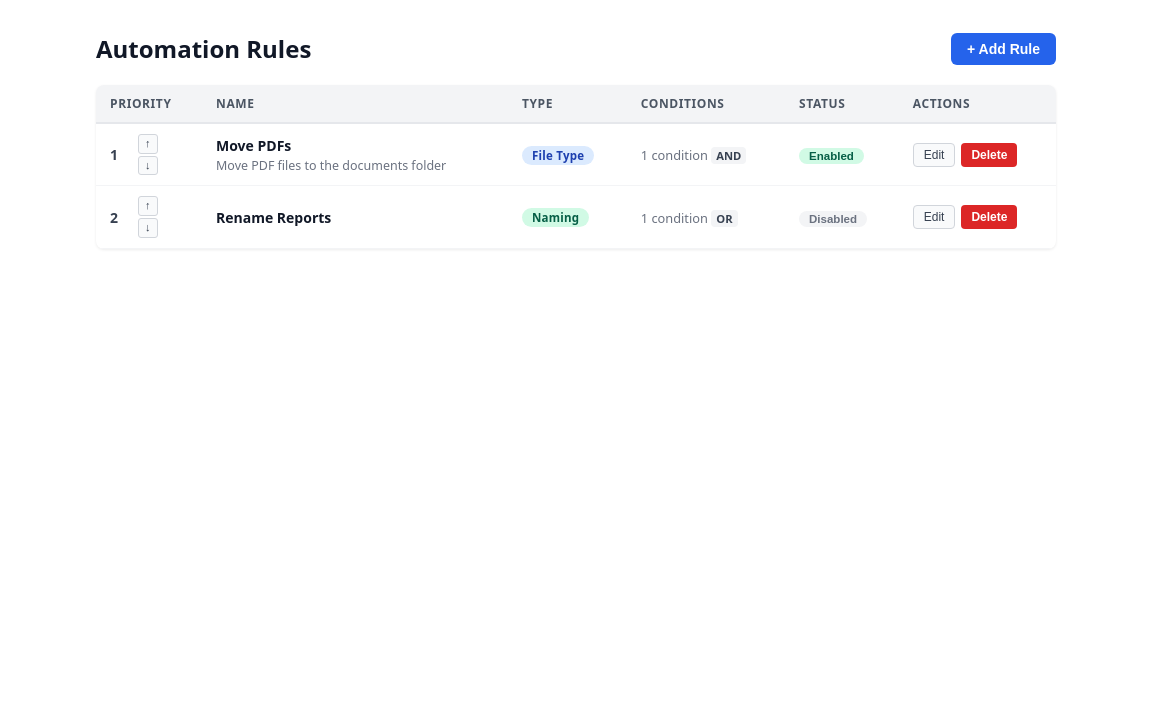
Scenario: AutomationRulesManager › editing rules › opens the edit form with existing rule data
Click the button with test id "edit-rule-rule-1": (934, 155) [913,143,956,167]
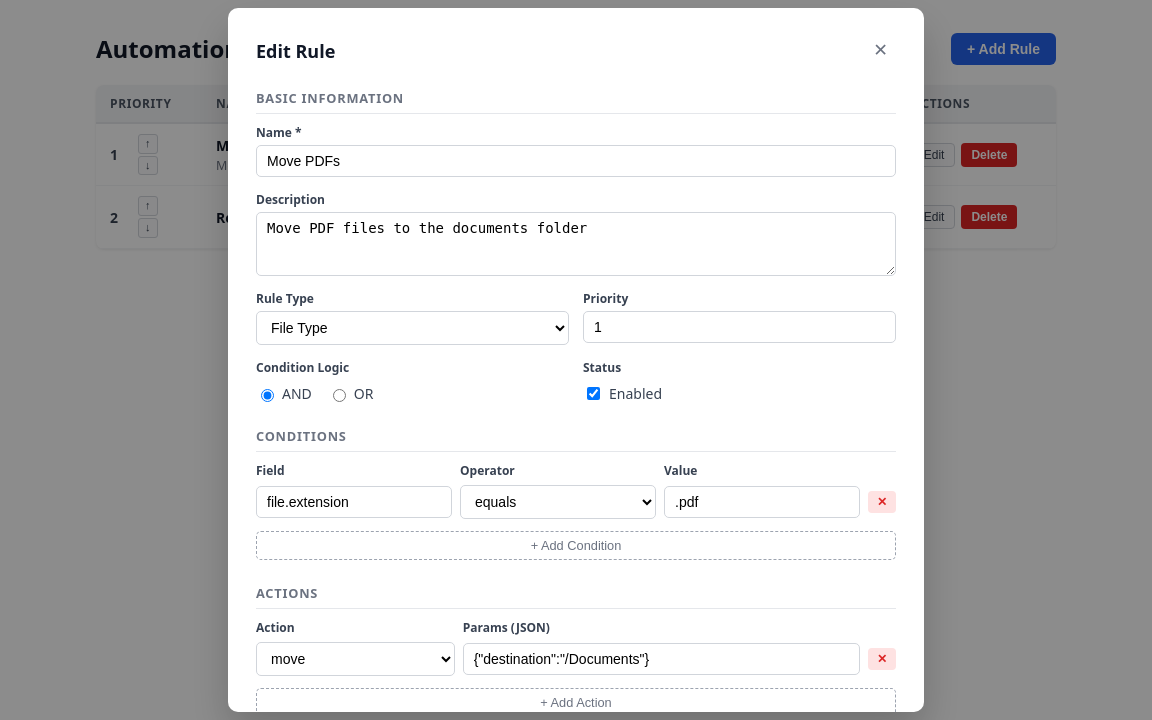
Check: the element with test id "rule-form-overlay" is shown
Check: the field labelled "Name *" holds "Move PDFs", box [256,145,896,177]
